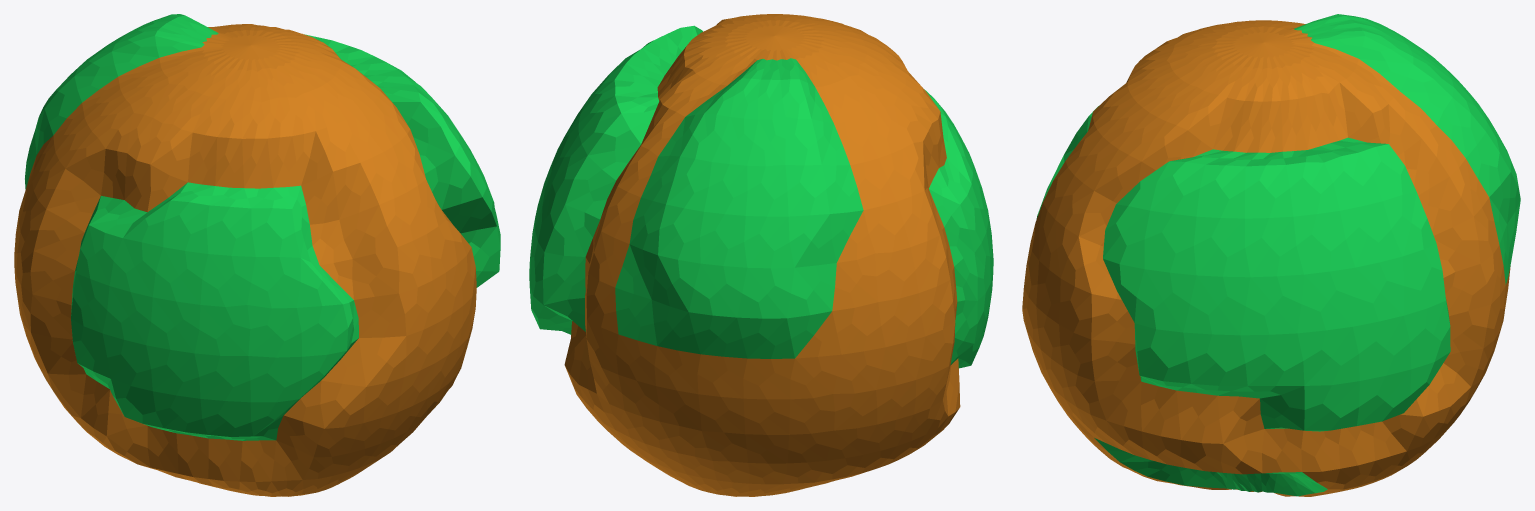
The model's file is planet_margs_1.fbx.
3 renders of one model, left to right at view 1: azimuth 30°, elevation 25°; view 2: azimuth 150°, elevation 25°; view 3: azimuth 270°, elevation 25°, orthographic. The views are drawn at different scales.
Parts seen in each view (by area): view 1: Sphere; view 2: Sphere; view 3: Sphere.
Boxes of the visible parts, <box> form: Sphere: <box>14,14,500,496</box>; Sphere: <box>529,14,993,496</box>; Sphere: <box>1022,14,1520,496</box>.
Size of the model in its own units: 197 by 197 by 201.
